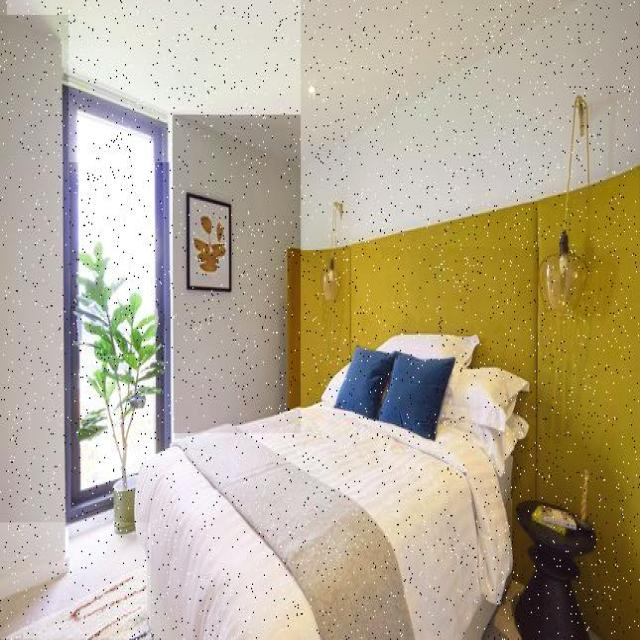Wall: (7, 1, 572, 162), (301, 0, 639, 247), (174, 116, 301, 433), (0, 15, 68, 597), (0, 523, 151, 639), (483, 581, 525, 639)
